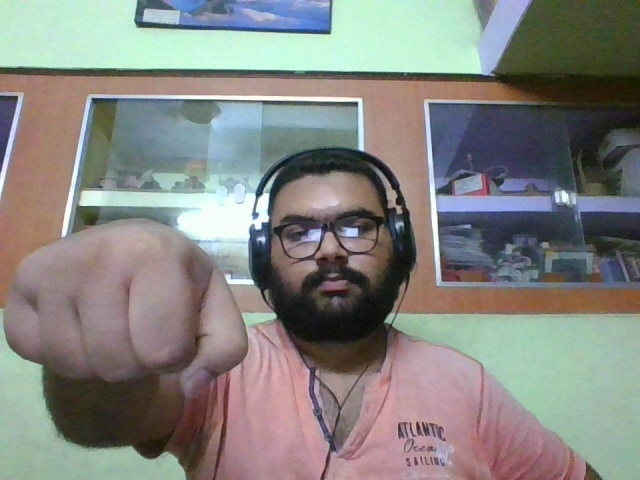yes: (8, 216, 259, 396)
